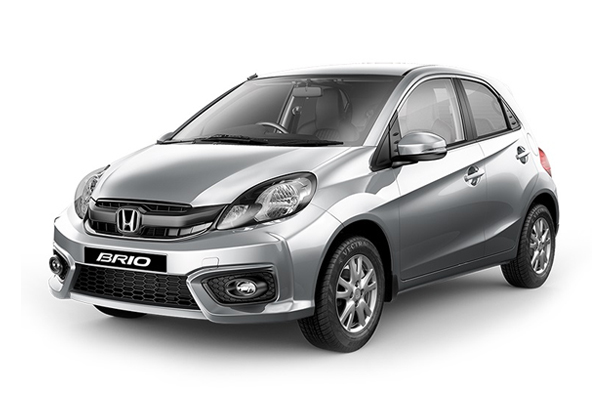sedan: (47, 59, 559, 353)
